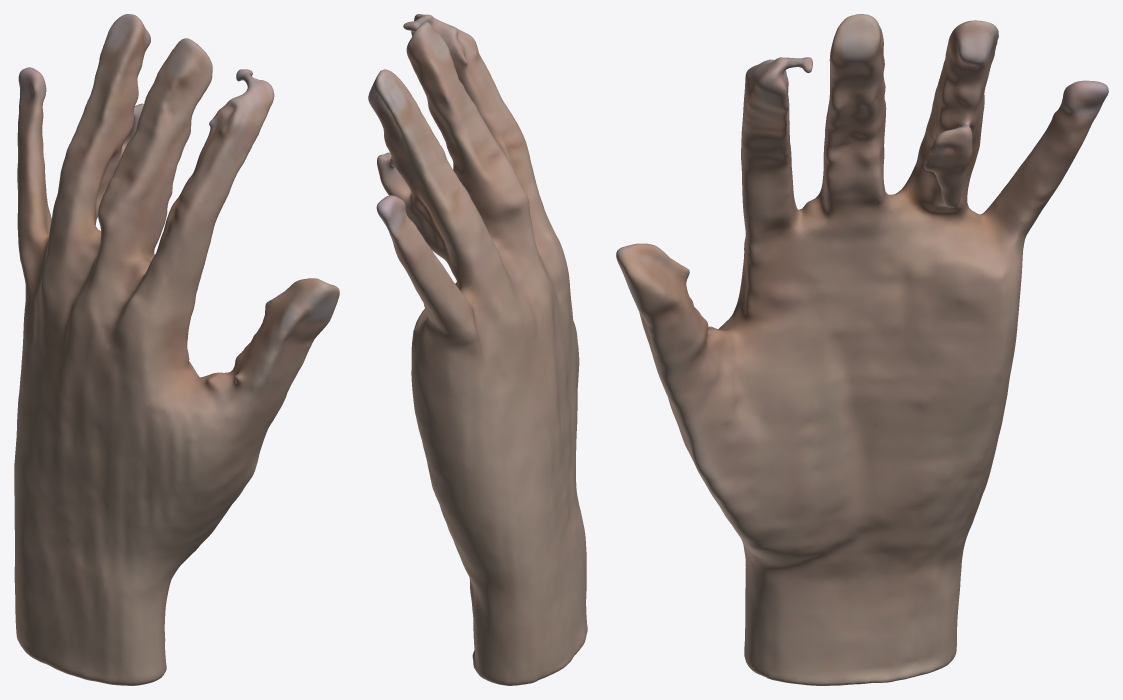
File: 17a9aa4a6e61_hands__3d_asset_0_g.fbx
3 renders of one model, left to right at view 1: azimuth 30°, elevation 25°; view 2: azimuth 150°, elevation 25°; view 3: azimuth 270°, elevation 25°, orthographic. The views are drawn at different scales.
Visible parts, largest first — view 1: high_poly; view 2: high_poly; view 3: high_poly.
Boxes of the visible parts, left/top/right/bottom form: high_poly: left=14, top=14, right=339, bottom=685; high_poly: left=368, top=14, right=587, bottom=685; high_poly: left=616, top=14, right=1108, bottom=685.
Size of the model in its own units: 36.33 by 100 by 63.22.
